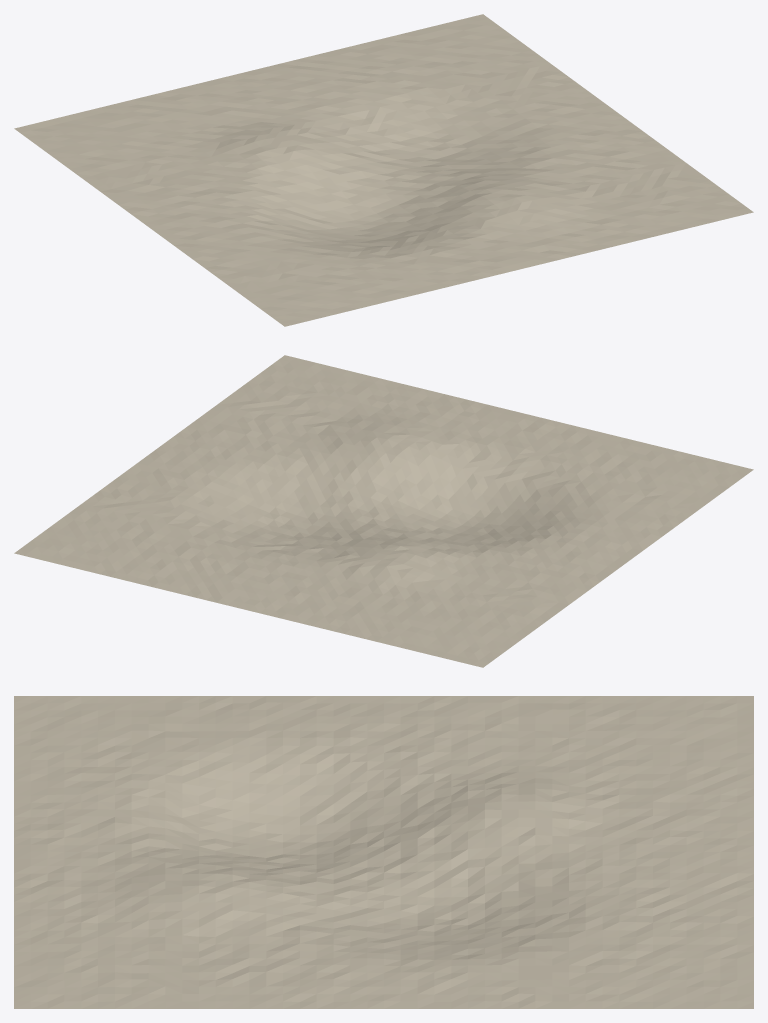
The model's file is Ground_m_09.fbx.
The picture shows the model from 3 angles, top to bottom: view 1: azimuth 30°, elevation 25°; view 2: azimuth 150°, elevation 25°; view 3: azimuth 270°, elevation 25°; orthographic projection. The views are drawn at different scales.
Parts seen in each view (by area): view 1: Ground_m_09; view 2: Ground_m_09; view 3: Ground_m_09.
Boxes of the visible parts, x1=… form: Ground_m_09: x1=14, y1=14, x2=753, y2=326; Ground_m_09: x1=14, y1=355, x2=753, y2=667; Ground_m_09: x1=14, y1=696, x2=753, y2=1008.
Size of the model in its own units: 10000 by 524 by 10000.
